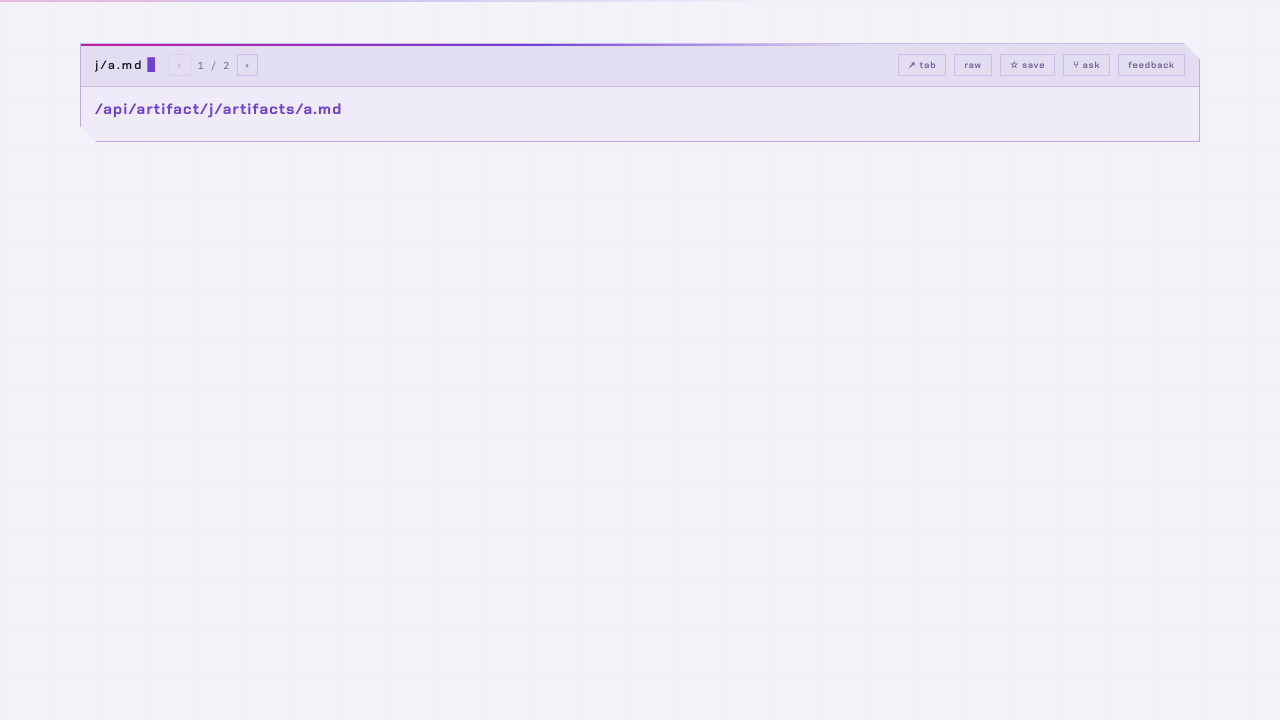
Test: the ask composer › a branch that lands AFTER a step leaves the new artifact's panel alone
Click the button "⑂ ask" at x=1087, y=65, box [1063,54,1110,76]
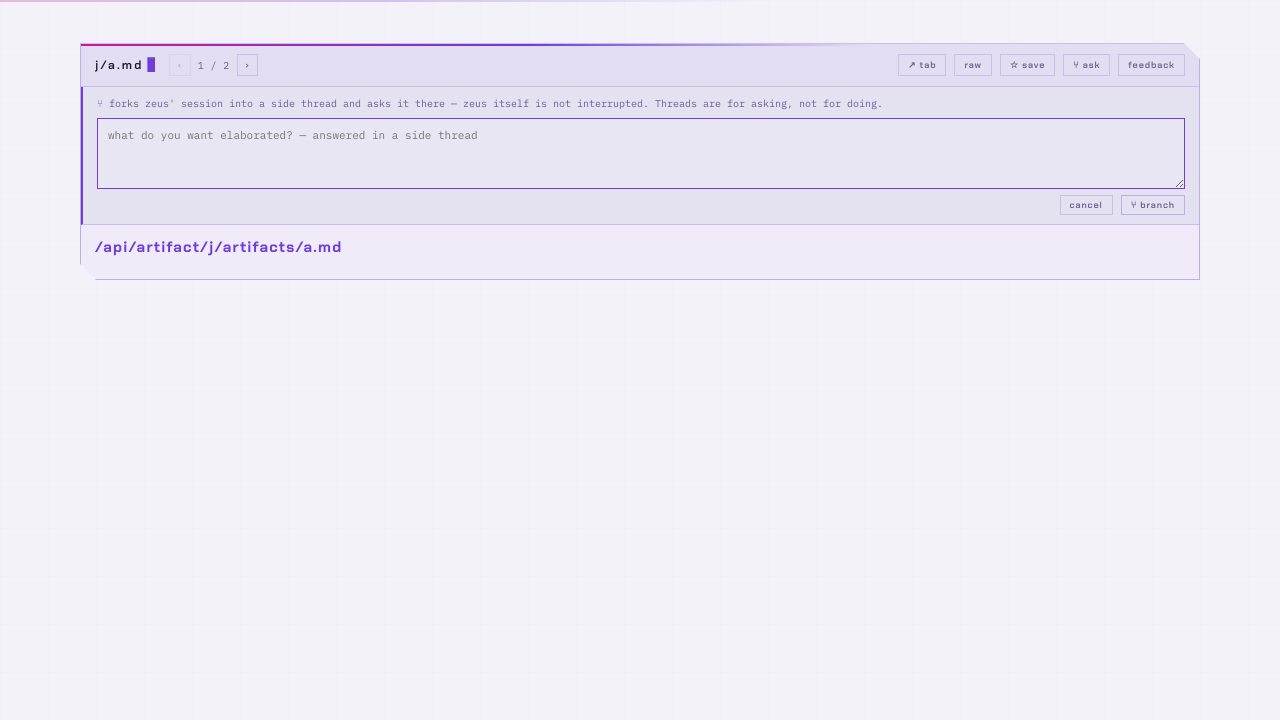
Type "a question about a.md" into the text box with id "ask-text" at x=641, y=154, box [97,118,1185,189]
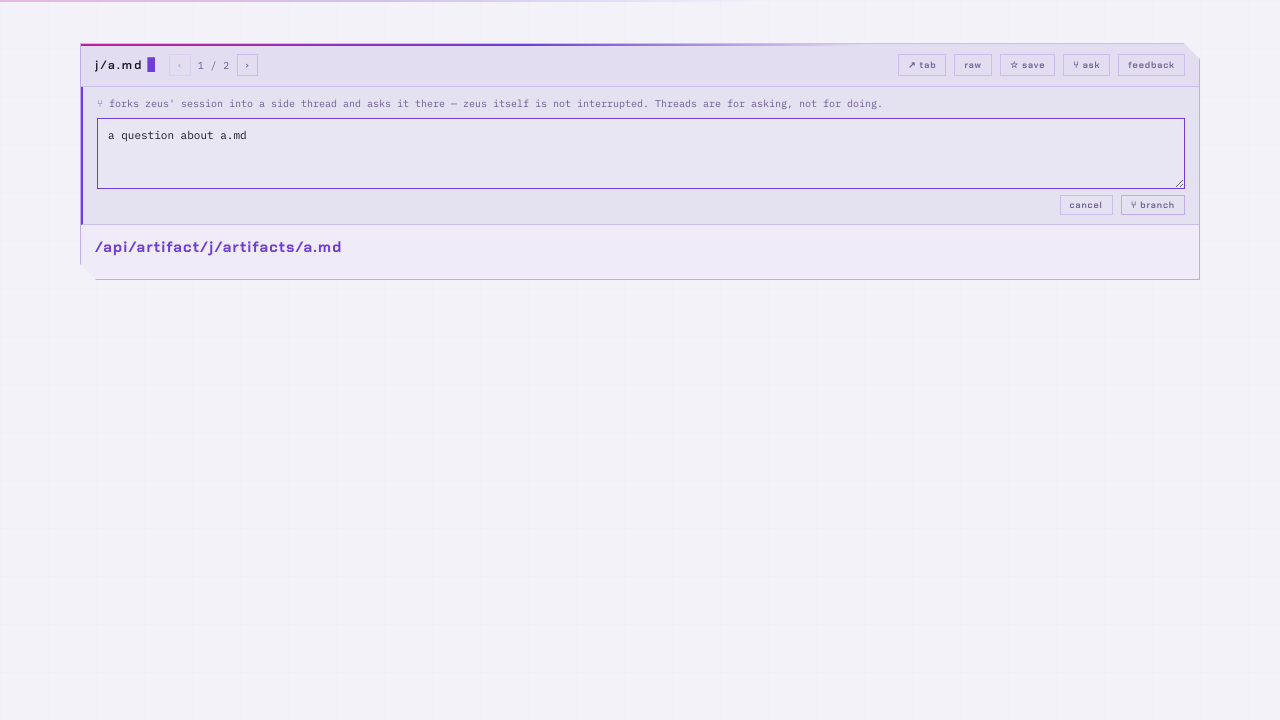
Click the button "⑂ branch" at x=1153, y=205, box [1121,195,1185,215]
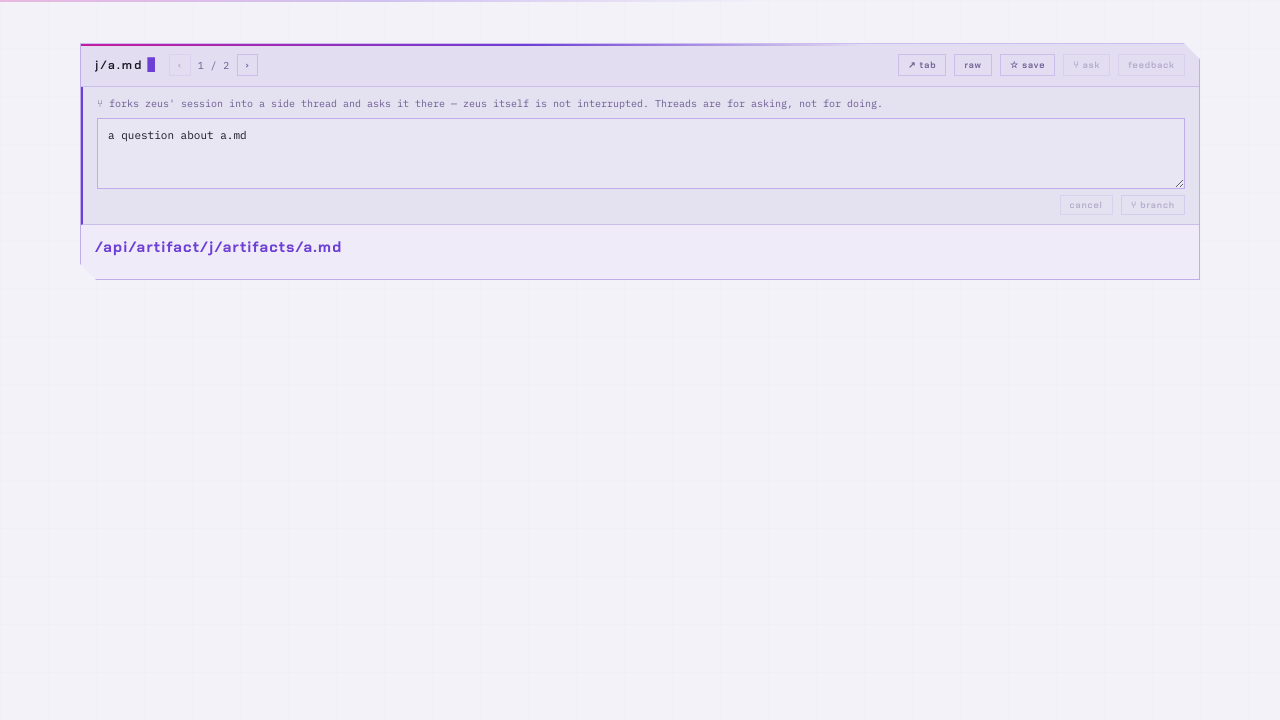
Click the button "›" at x=247, y=65, box [237,54,258,76]
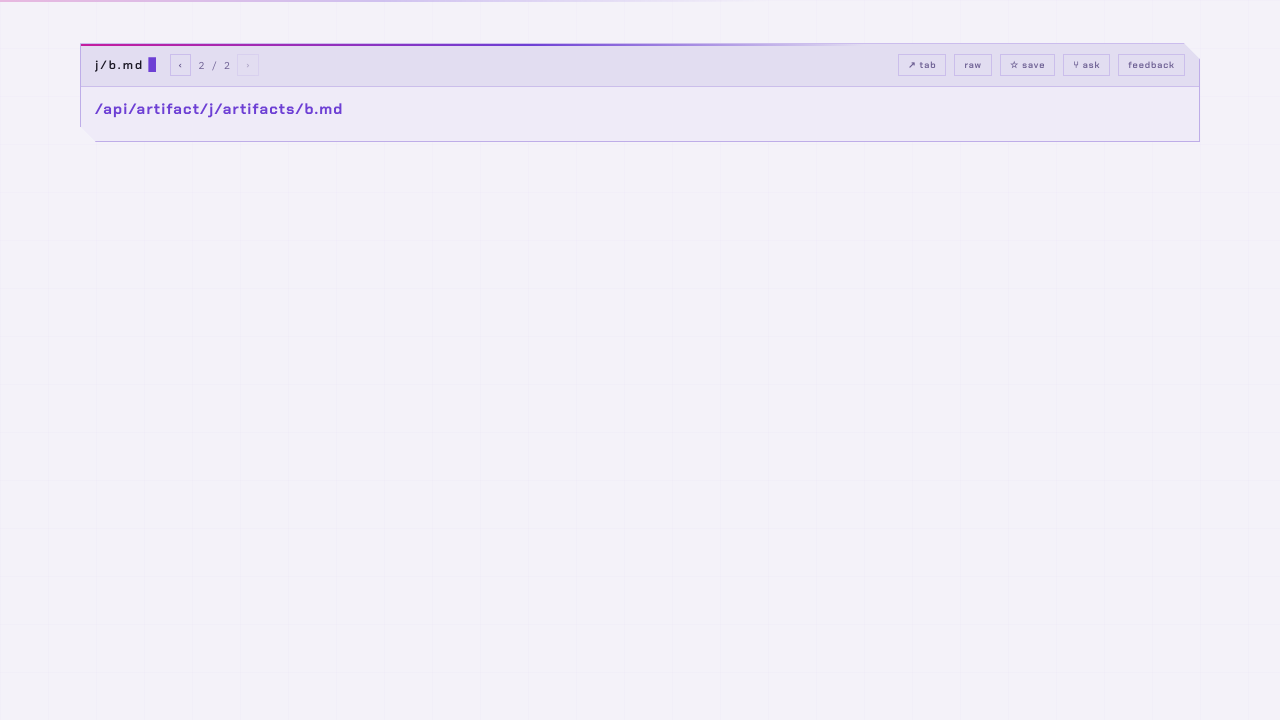
Now the text "j/b.md" is shown, box [95,57,160,73]
